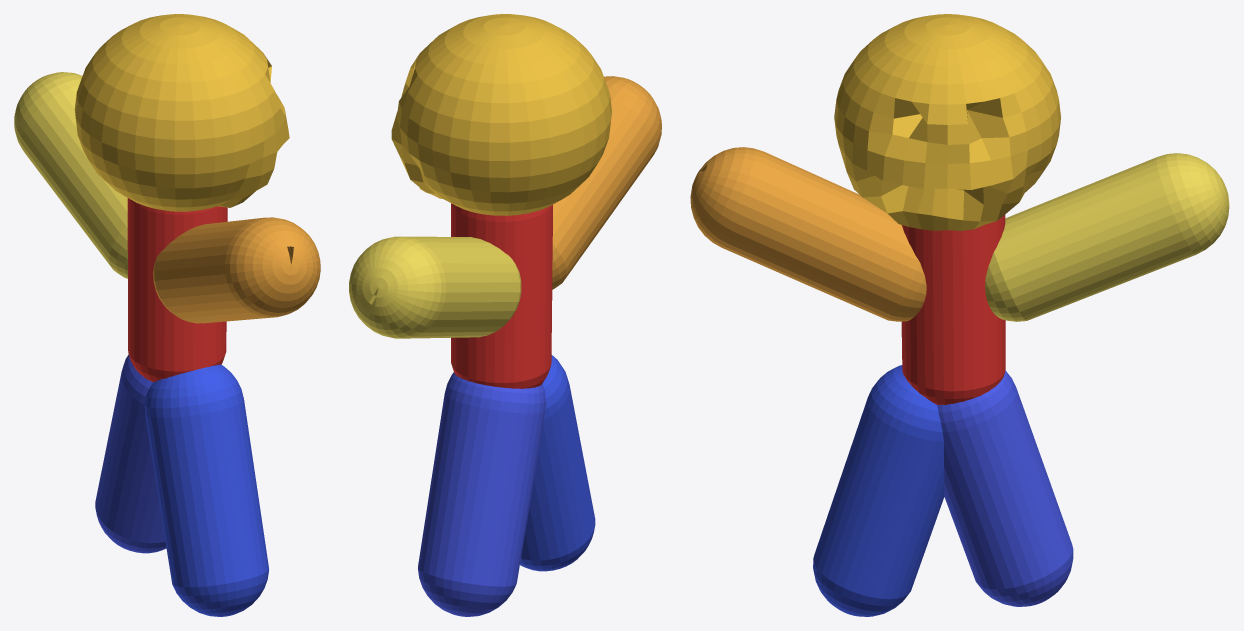
Rendered from yes.glb.
3 views of the same model, side by side, from view 1: azimuth 30°, elevation 25°; view 2: azimuth 150°, elevation 25°; view 3: azimuth 270°, elevation 25° (orthographic). The views are drawn at different scales.
Visible parts, largest first — view 1: Sphere.003, Sphere, Sphere.004, Sphere.005, Sphere.002, Sphere.001; view 2: Sphere.003, Sphere.001, Sphere.005, Sphere.002, Sphere, Sphere.004; view 3: Sphere.003, Sphere.005, Sphere.004, Sphere, Sphere.001, Sphere.002.
Part boxes in pixels (left/top/right/bottom): Sphere.003: left=74, top=14, right=289, bottom=211; Sphere: left=144, top=364, right=269, bottom=616; Sphere.004: left=153, top=217, right=320, bottom=323; Sphere.005: left=14, top=72, right=127, bottom=278; Sphere.002: left=127, top=198, right=227, bottom=382; Sphere.001: left=95, top=354, right=166, bottom=553; Sphere.003: left=391, top=14, right=611, bottom=215; Sphere.001: left=418, top=372, right=545, bottom=616; Sphere.005: left=349, top=236, right=521, bottom=338; Sphere.002: left=451, top=203, right=552, bottom=388; Sphere: left=520, top=355, right=595, bottom=571; Sphere.004: left=552, top=76, right=661, bottom=289; Sphere.003: left=834, top=14, right=1060, bottom=230; Sphere.005: left=985, top=153, right=1229, bottom=321; Sphere.004: left=690, top=147, right=926, bottom=321; Sphere: left=813, top=365, right=944, bottom=616; Sphere.001: left=937, top=370, right=1073, bottom=606; Sphere.002: left=901, top=214, right=1005, bottom=404.
Bounding box in the file's own units: 4.29 × 12.28 × 10.22.
